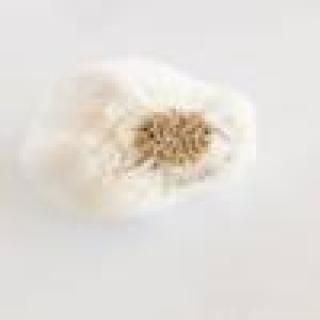Bawang Putih: (14, 46, 286, 254)
